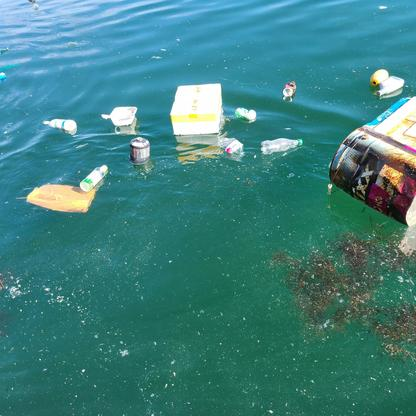can: (235, 107, 256, 119), (283, 81, 297, 98)
foam: (169, 81, 224, 134), (101, 105, 141, 127)
plastic bottle: (80, 165, 109, 192), (261, 138, 304, 153)
